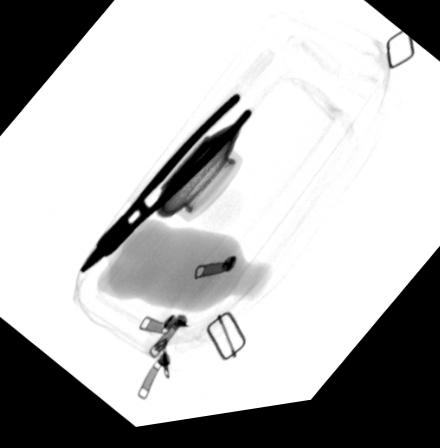Pliers: (77, 101, 251, 276)
